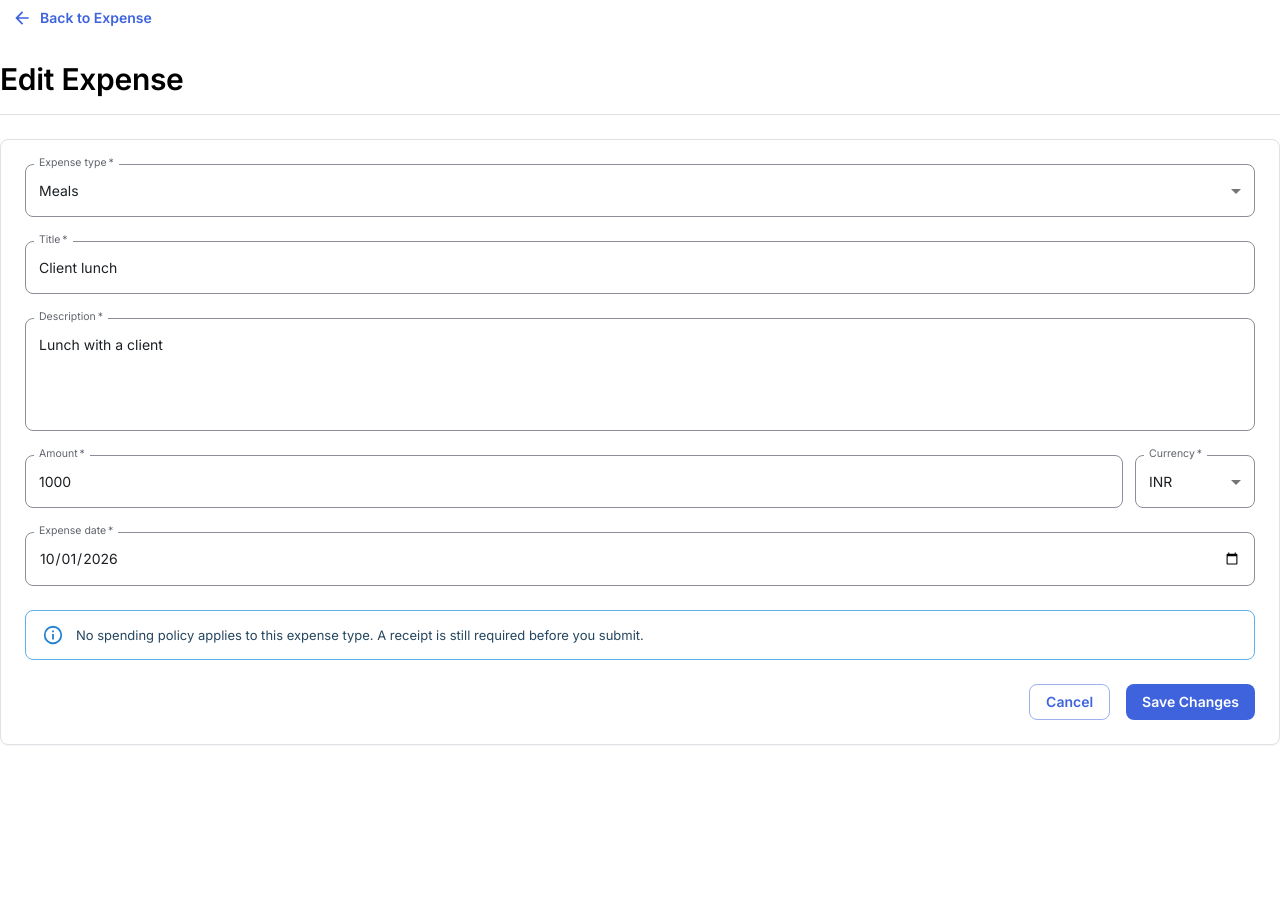
EditExpensePage › refreshes the form with the latest values after a conflict
This screenshot has width=1280, height=900.
Expected: the field labelled "Title" is shown, [25,241,1255,294]
Click the button "Save Changes": [1191, 702] box [1126,684,1255,720]
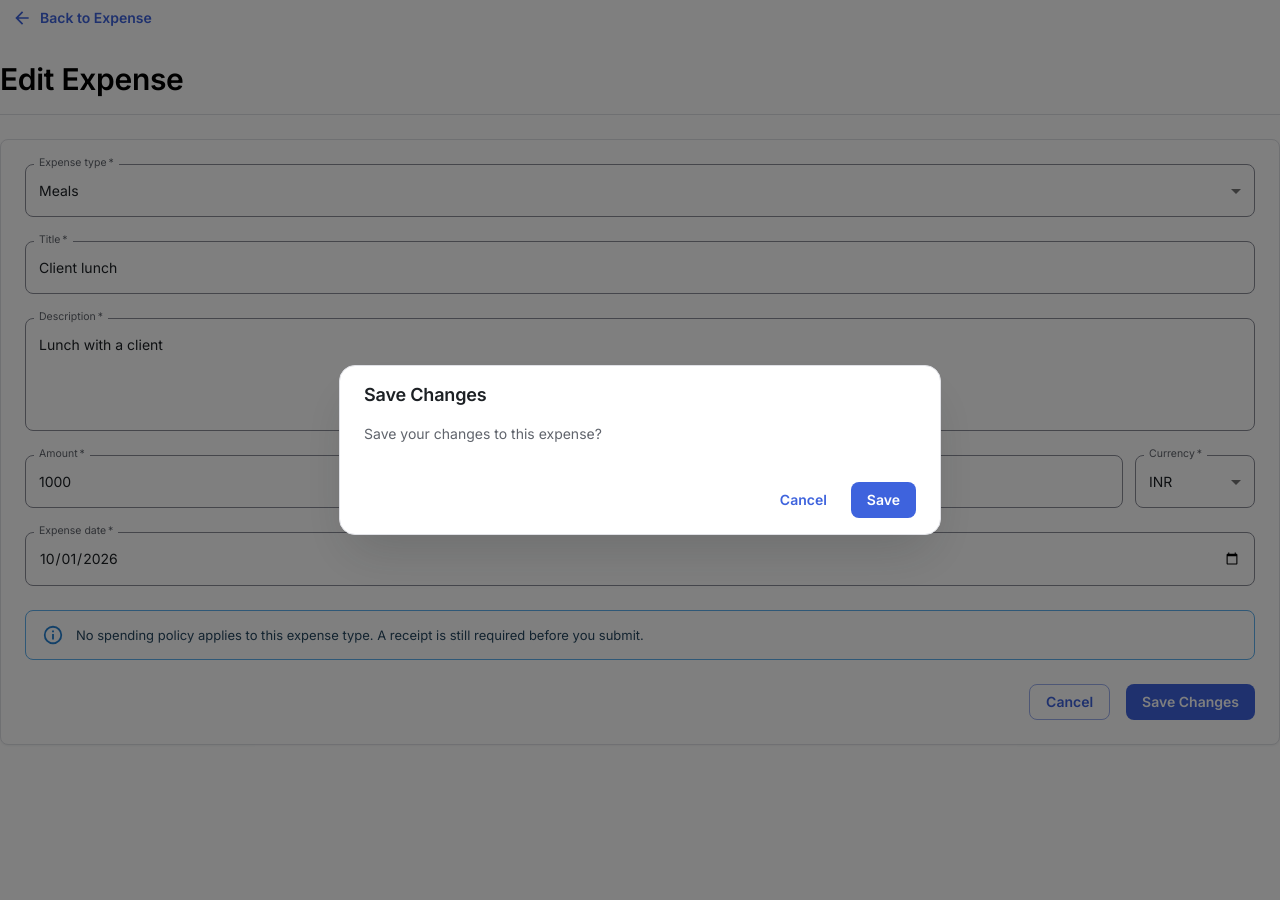
Click the button "Save": [883, 500] box [851,482,916,518]
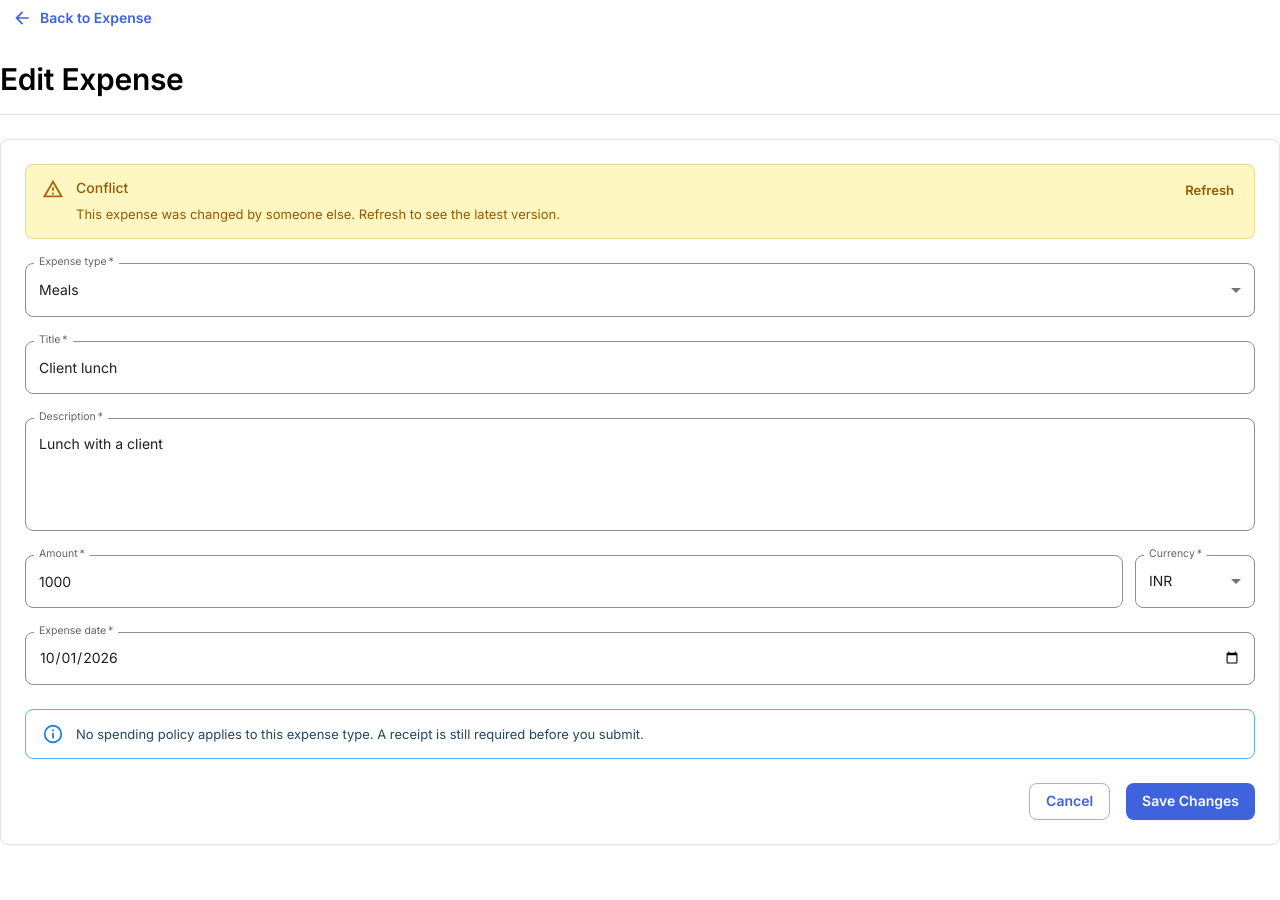
Now the text "Conflict" is shown, box [76,179,128,196]
Now the dialog is gone
Click the button "Refresh": [1210, 190] box [1173,175,1246,206]
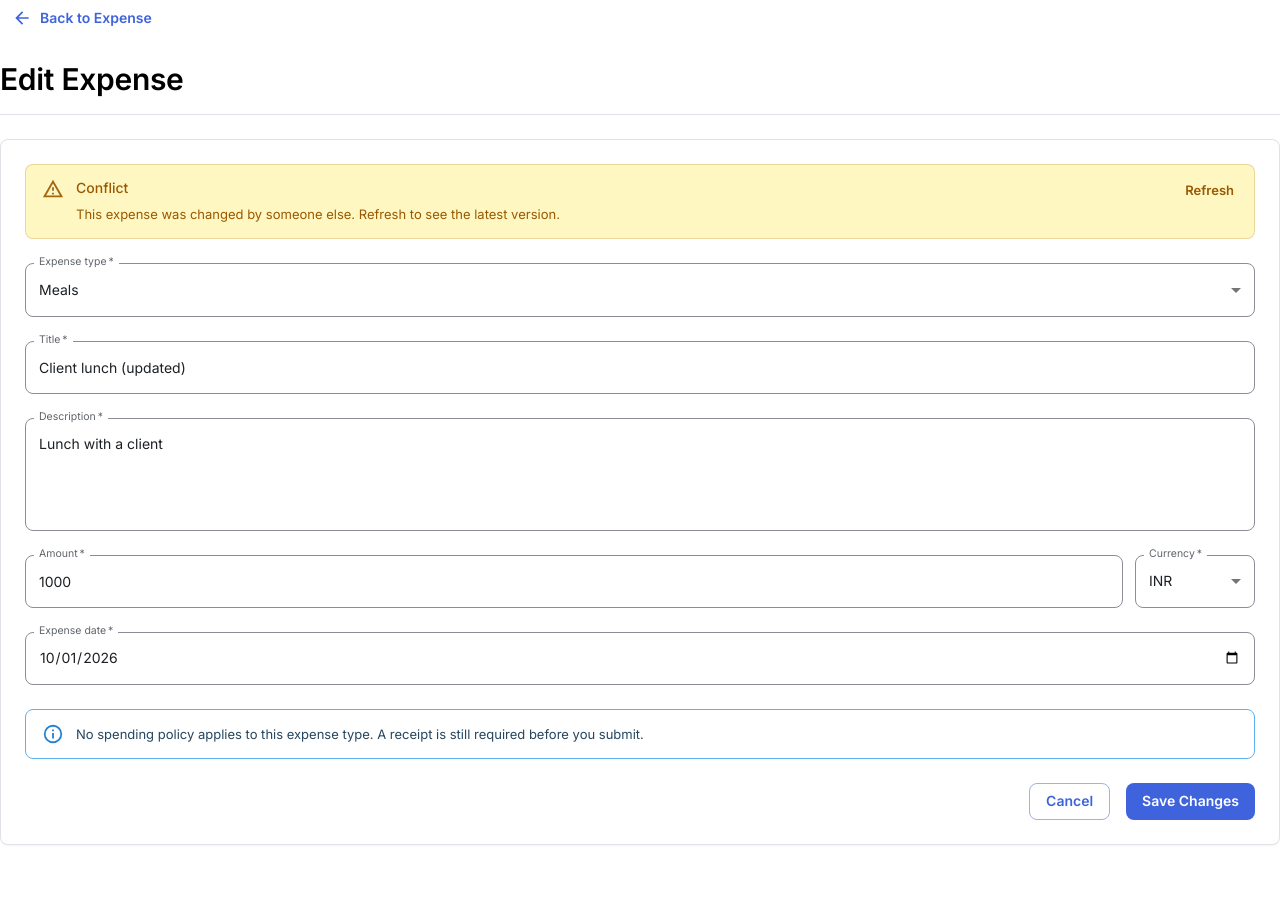
Now the field labelled "Title" holds "Client lunch (updated)", box [25,340,1255,394]
